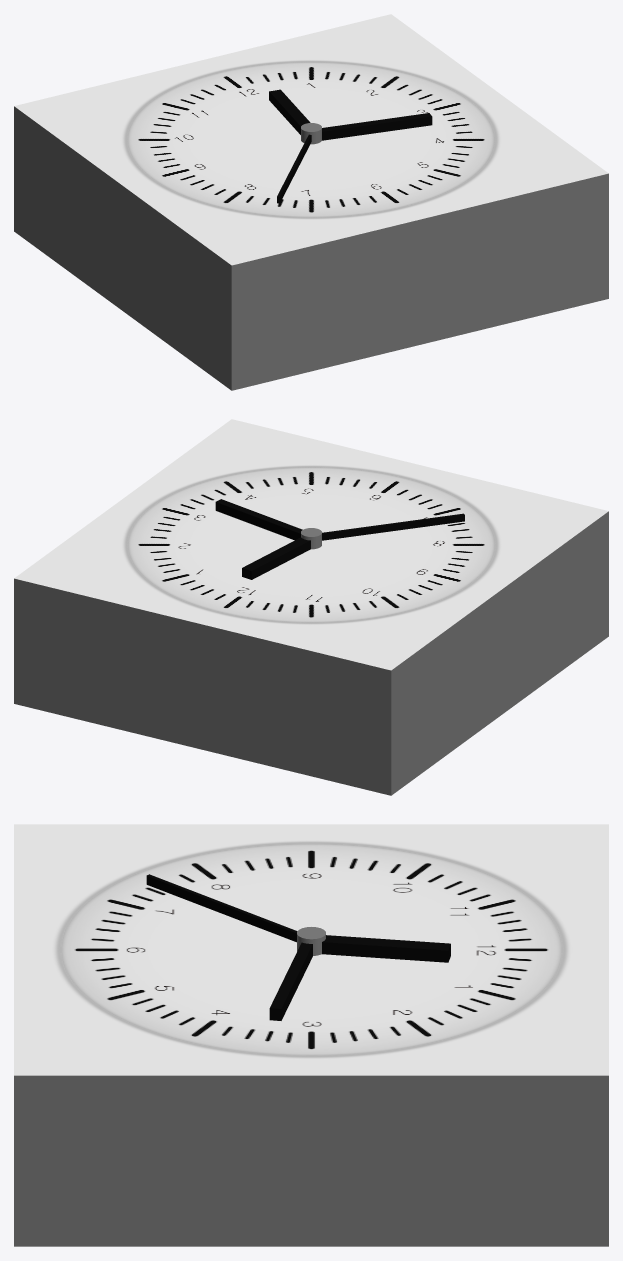
The model's file is TableWatch.fbx.
The picture shows the model from 3 angles, top to bottom: view 1: azimuth 30°, elevation 25°; view 2: azimuth 150°, elevation 25°; view 3: azimuth 270°, elevation 25°; orthographic projection. The views are drawn at different scales.
Visible parts, largest first — view 1: Box001, Box003, Box002; view 2: Box001, Box004, Box003, Box002; view 3: Box001, Box002, Box004, Box003, Cylinder001.
Boxes of the visible parts, x1,y1,x2,y2 form: Box001: (14,14,608,390); Box003: (322,113,432,140); Box002: (269,89,310,134); Box001: (14,419,608,795); Box004: (322,513,464,540); Box003: (215,499,302,540); Box002: (242,537,310,579); Box001: (14,824,608,1246); Box002: (322,935,450,962); Box004: (146,874,297,942); Box003: (269,942,312,1020); Cylinder001: (297,927,325,955).
Size of the model in its own units: 34.41 by 12 by 34.41.
4 materials, 1 textured.
